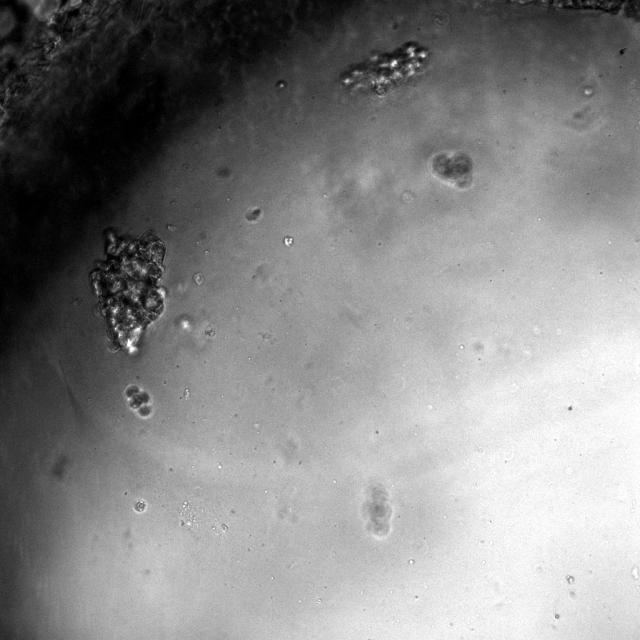organoid: (89, 229, 166, 354), (340, 41, 429, 96), (428, 151, 472, 190), (124, 385, 151, 416)
